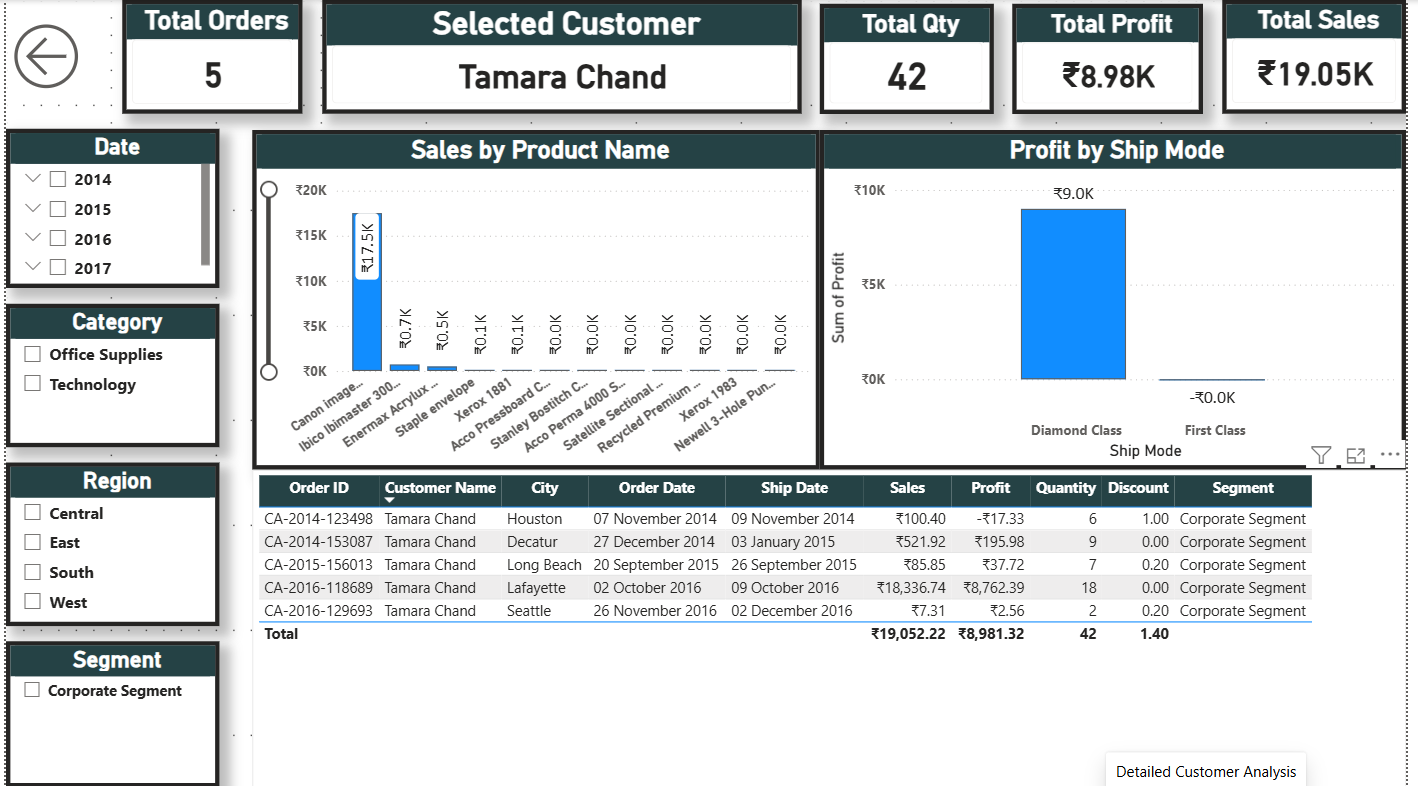

The dashboard page shown, as its layout file describes it:
{"tool":"powerbi","page":{"name":"Detailed Customer Analysis","canvas":[1280,720],"ordinal":6},"visuals":[{"type":"cardVisual","title":"Total Sales","fields":{"Data":["Sum(Orders.Sales)"]},"box":[1111.7,0,168.3,104.3],"z":0},{"type":"cardVisual","title":"Total Qty","fields":{"Data":["Sum(Orders.Quantity)"]},"box":[744.3,3.6,158.8,100.7],"z":1000},{"type":"cardVisual","title":"Total Orders","fields":{"Data":["Count(Orders.Order ID)"]},"box":[106.7,0,164.7,104.3],"z":2000},{"type":"cardVisual","title":"Total Profit","fields":{"Data":["Sum(Orders.Profit)"]},"box":[920.3,3.6,174.2,100.7],"z":3000},{"type":"slicer","title":"Date","fields":{"Values":["Orders.Order Date.Variation.Date Hierarchy.Year","Orders.Order Date.Variation.Date Hierarchy.Quarter","Orders.Order Date.Variation.Date Hierarchy.Month","Orders.Order Date.Variation.Date Hierarchy.Day"]},"box":[0,118,195.6,145.8],"z":4000},{"type":"slicer","title":"Category","fields":{"Values":["Orders.Category"]},"box":[0,277.8,195.6,131.6],"z":5000},{"type":"slicer","title":"Region","fields":{"Values":["Orders.Region"]},"box":[0,423.3,195.6,149.3],"z":6000},{"type":"slicer","title":"Segment","fields":{"Values":["Orders.Segment"]},"box":[0,586.1,195.6,133.9],"z":7000},{"type":"cardVisual","title":"Selected Customer","fields":{"Data":["Min(Orders.Customer Name)"]},"box":[288.6,0,438.5,104.3],"z":8000},{"type":"columnChart","title":"Sales by Product Name","fields":{"Category":["Orders.Product Name"],"Y":["Sum(Orders.Sales)"]},"box":[225.2,118.5,519.1,310.5],"z":9000},{"type":"columnChart","title":"Profit by Ship Mode","fields":{"Category":["Orders.Ship Mode"],"Y":["Sum(Orders.Profit)"]},"box":[744.3,118.5,535.7,310.5],"z":10000},{"type":"tableEx","fields":{"Values":["Orders.Order ID","Orders.Customer Name","Orders.City","Orders.Order Date","Orders.Ship Date","Sum(Orders.Sales)","Sum(Orders.Profit)","Sum(Orders.Quantity)","Sum(Orders.Discount)","Orders.Segment"]},"box":[225.2,430.2,1054.8,290.4],"z":11000},{"type":"actionButton","box":[0,9.5,73.5,85.3],"z":12000}]}

Visuals, with their boxes in screenshot pixels (x1, y1, x2, y2), scaled from the page's 1280x720 canvas onto the 1418x786 screenshot:
"Total Sales" cardVisual: {"x1": 1232, "y1": 0, "x2": 1417, "y2": 114}
"Total Qty" cardVisual: {"x1": 825, "y1": 4, "x2": 1000, "y2": 114}
"Total Orders" cardVisual: {"x1": 118, "y1": 0, "x2": 301, "y2": 114}
"Total Profit" cardVisual: {"x1": 1020, "y1": 4, "x2": 1213, "y2": 114}
"Date" slicer: {"x1": 0, "y1": 129, "x2": 217, "y2": 288}
"Category" slicer: {"x1": 0, "y1": 303, "x2": 217, "y2": 447}
"Region" slicer: {"x1": 0, "y1": 462, "x2": 217, "y2": 625}
"Segment" slicer: {"x1": 0, "y1": 640, "x2": 217, "y2": 785}
"Selected Customer" cardVisual: {"x1": 320, "y1": 0, "x2": 805, "y2": 114}
"Sales by Product Name" columnChart: {"x1": 249, "y1": 129, "x2": 825, "y2": 468}
"Profit by Ship Mode" columnChart: {"x1": 825, "y1": 129, "x2": 1417, "y2": 468}
tableEx - Orders.Order ID x Orders.Customer Name: {"x1": 249, "y1": 470, "x2": 1417, "y2": 785}
actionButton: {"x1": 0, "y1": 10, "x2": 81, "y2": 103}
